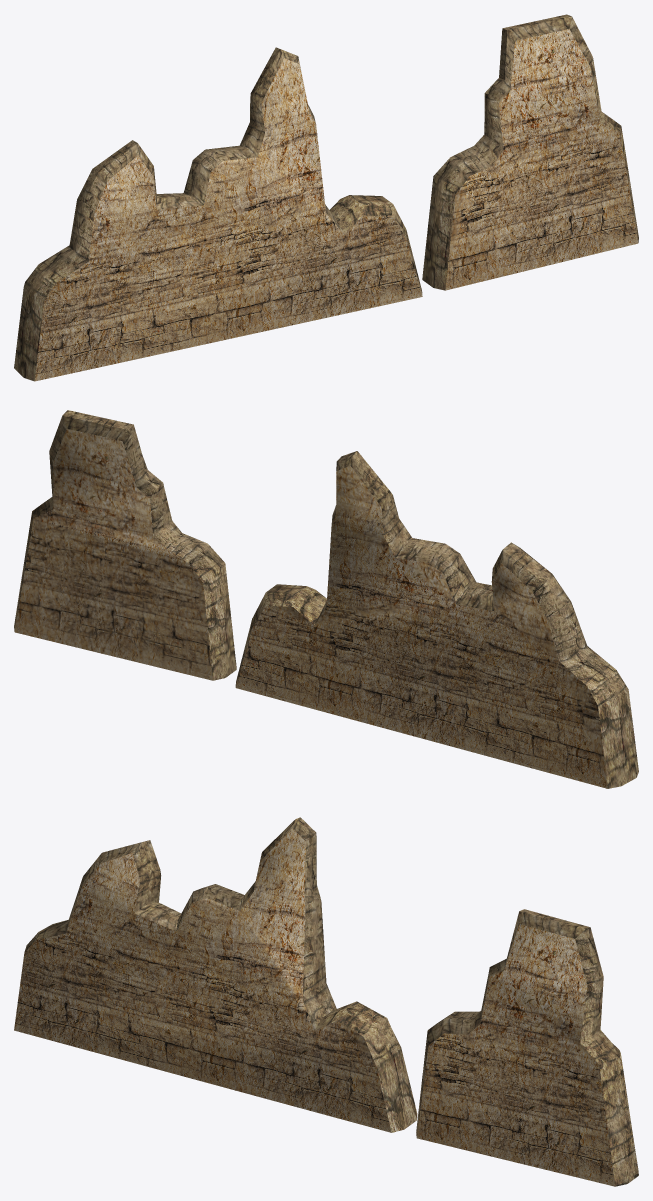
File: Ruins_Wall_06.fbx
The picture shows the model from 3 angles, top to bottom: view 1: azimuth 30°, elevation 25°; view 2: azimuth 150°, elevation 25°; view 3: azimuth 330°, elevation 25°; orthographic projection. The views are drawn at different scales.
Parts seen in each view (by area): view 1: Ruins_Wall_06; view 2: Ruins_Wall_06; view 3: Ruins_Wall_06.
Boxes of the visible parts, box(x1,y1,x2,y2) form: Ruins_Wall_06: box(14, 14, 638, 381); Ruins_Wall_06: box(14, 410, 638, 788); Ruins_Wall_06: box(14, 817, 638, 1186).
Size of the model in its own units: 8.25 by 3.37 by 0.828.
Materials: 2 (2 with a texture image).
